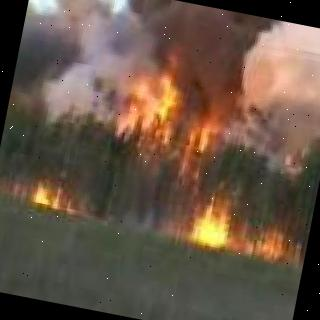fire: (121, 36, 190, 136), (180, 180, 240, 247), (253, 229, 292, 263), (28, 182, 61, 205)
